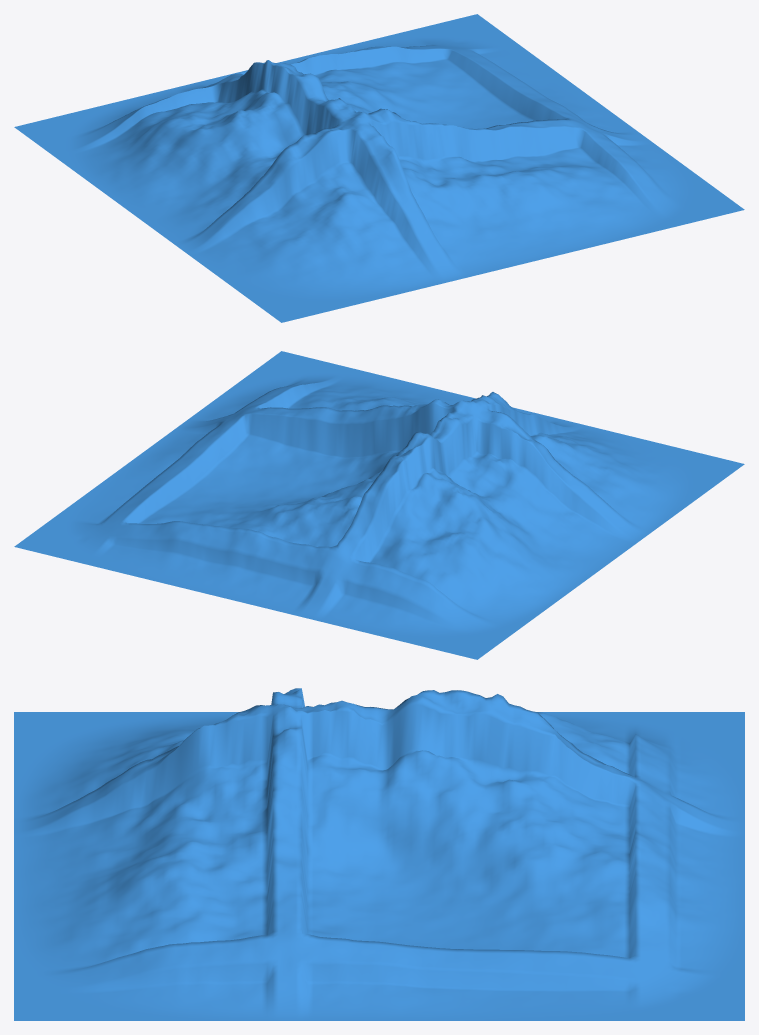
The model's file is landscape.glb.
3 renders of one model, top to bottom at view 1: azimuth 30°, elevation 25°; view 2: azimuth 150°, elevation 25°; view 3: azimuth 270°, elevation 25°, orthographic. The views are drawn at different scales.
Parts seen in each view (by area): view 1: Landscape; view 2: Landscape; view 3: Landscape.
Part boxes in pixels (left/top/right/bottom): Landscape: left=14, top=14, right=744, bottom=322; Landscape: left=14, top=351, right=744, bottom=659; Landscape: left=14, top=688, right=744, bottom=1020.
Bounding box in the file's own units: 2 × 0.399 × 2.
